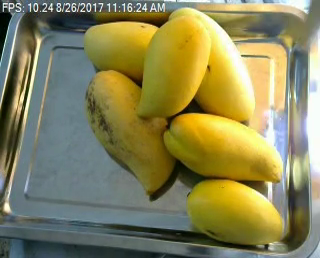Mango: (87, 70, 179, 196), (168, 6, 255, 120), (162, 113, 285, 181), (135, 16, 211, 116), (187, 178, 282, 243), (83, 21, 161, 85)
